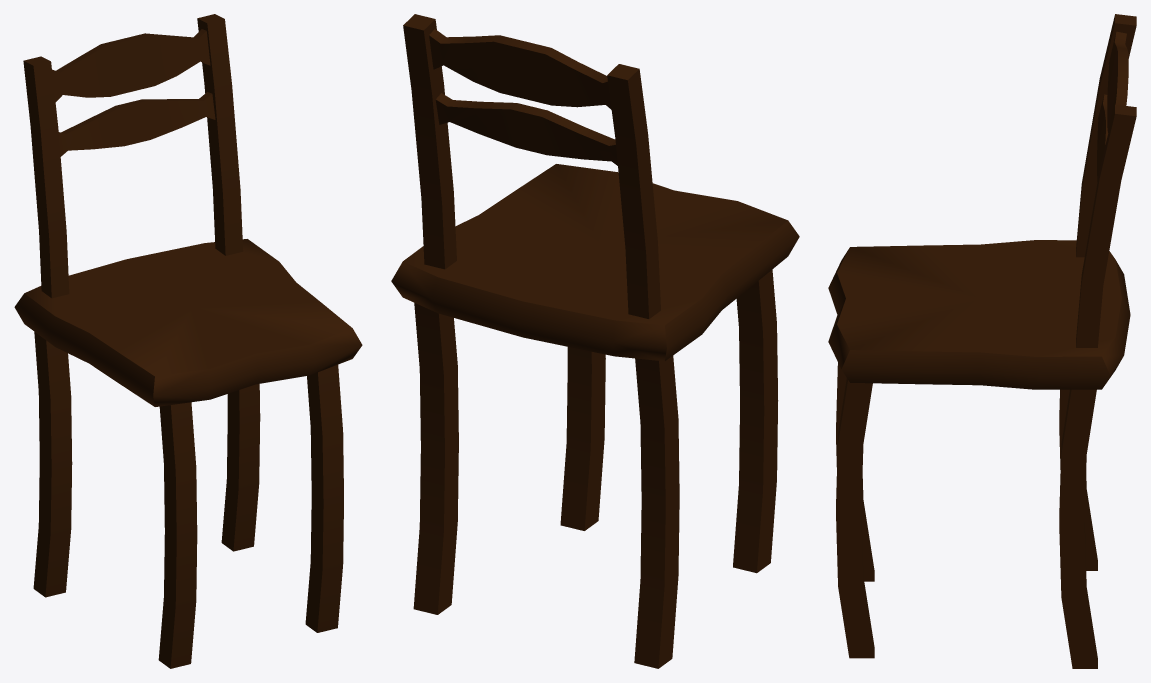
File: Chair.fbx
The picture shows the model from 3 angles, left to right: view 1: azimuth 30°, elevation 25°; view 2: azimuth 150°, elevation 25°; view 3: azimuth 270°, elevation 25°; orthographic projection. The views are drawn at different scales.
Parts seen in each view (by area): view 1: Chair; view 2: Chair; view 3: Chair.
Boxes of the visible parts, box(x1,y1,x2,y2) form: Chair: box(14, 14, 362, 668); Chair: box(391, 14, 799, 668); Chair: box(828, 14, 1136, 668).
Bounding box in the file's own units: 66.37 × 139 × 70.24.
